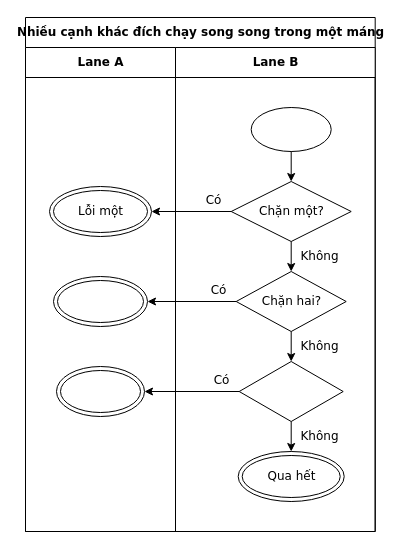
Image size: 401x549. Some labels were removed from this diagram. Each missing label, with the centre of its shape:
Chặn ba?: [290,391]
Lỗi ba: [100,391]
Lỗi hai: [100,301]
Vào: [290,129]
